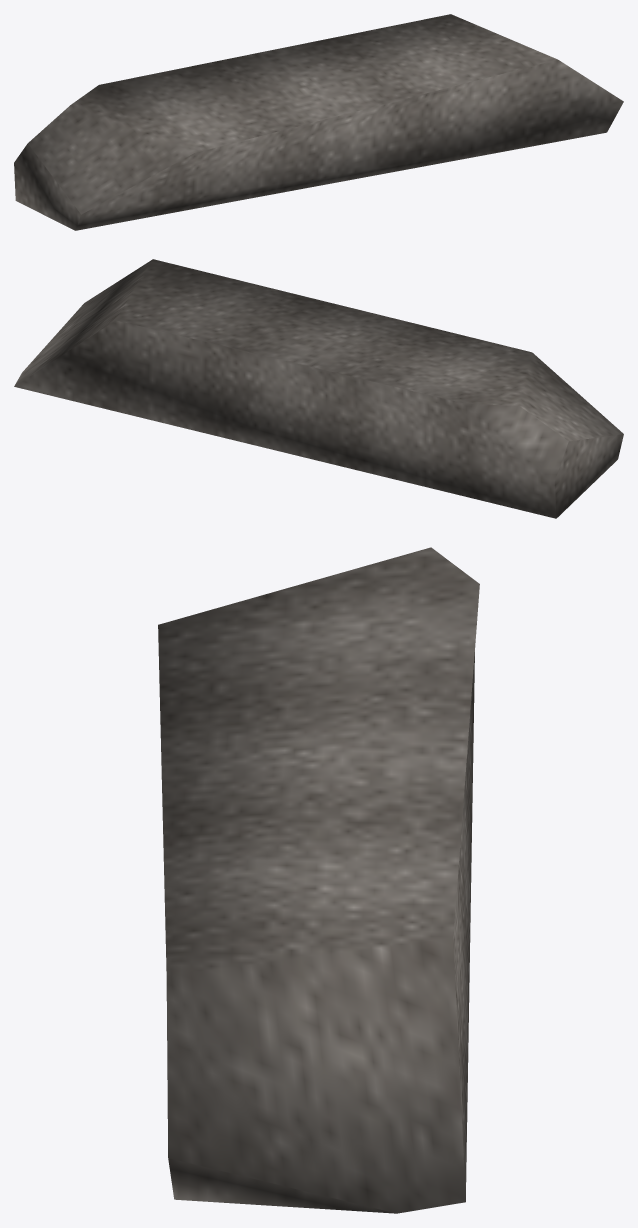
Rendered from cliff_strata_1.glb.
3 renders of one model, top to bottom at view 1: azimuth 30°, elevation 25°; view 2: azimuth 150°, elevation 25°; view 3: azimuth 270°, elevation 25°, orthographic. The views are drawn at different scales.
Visible parts, largest first — view 1: cliff_strata_1; view 2: cliff_strata_1; view 3: cliff_strata_1.
Part boxes in pixels (left/top/right/bottom): cliff_strata_1: left=14, top=14, right=623, bottom=230; cliff_strata_1: left=14, top=259, right=623, bottom=518; cliff_strata_1: left=158, top=547, right=479, bottom=1213.
Size of the model in its own units: 8.79 by 1.52 by 2.28.
1 material, 1 textured.
